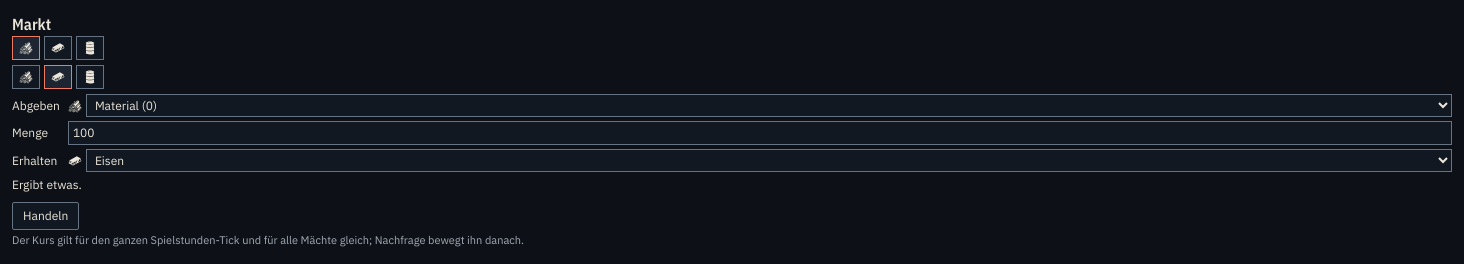
Scenario: E4.4 Die Markt-Chip-Leisten ersetzen den Select-Umweg › Klick auf einen Verlangen-Chip setzt die Auswahl und fokussiert das Mengenfeld
Click the 6th button with class "market__chip": (90, 77) [76, 65, 104, 89]
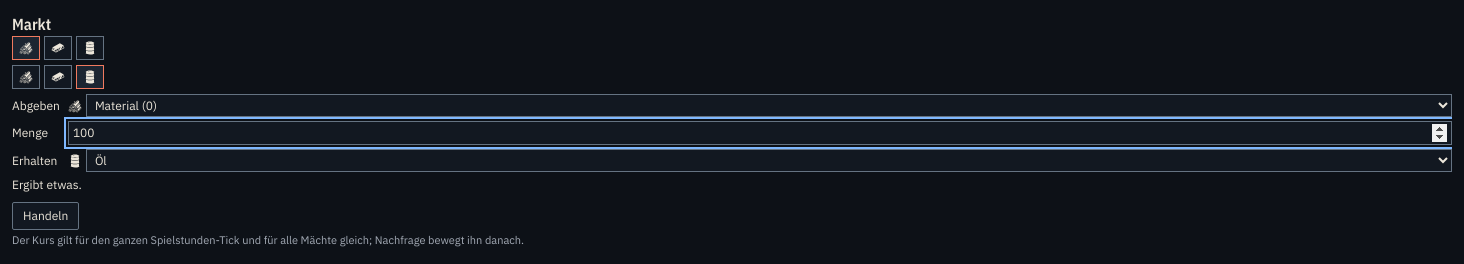
Expected: the dropdown with id "market-want" shows "Öl", [86, 149, 1452, 172]
